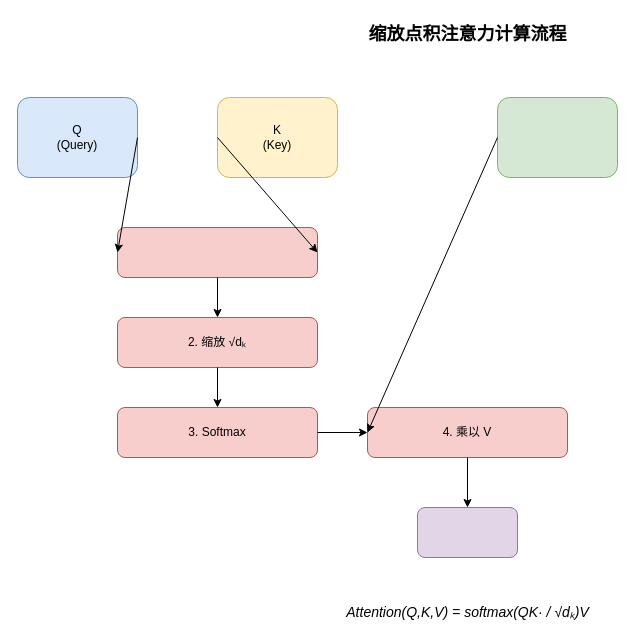
Image size: 635x644. Some labels were removed from this diagram. Each missing label, with the centre of its shape:
1. 计算 QK·: point 217,252
Output: point 467,532
V (Value): point 557,137
